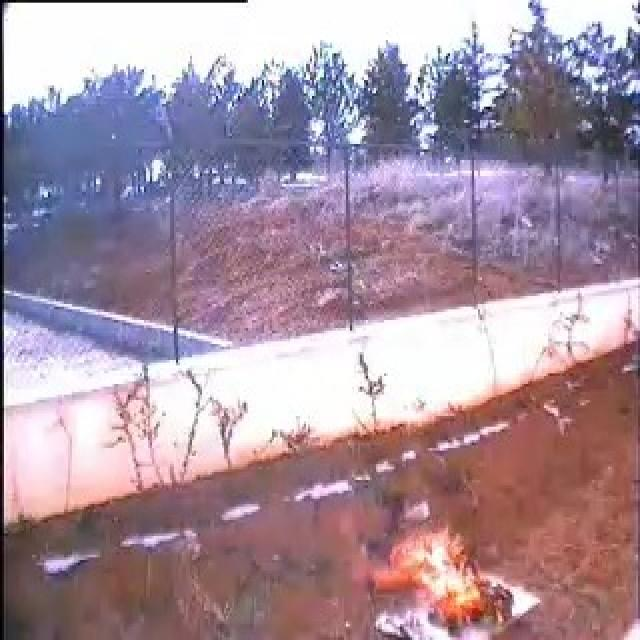fire: (392, 533, 496, 626)
smoke: (387, 497, 409, 532)
